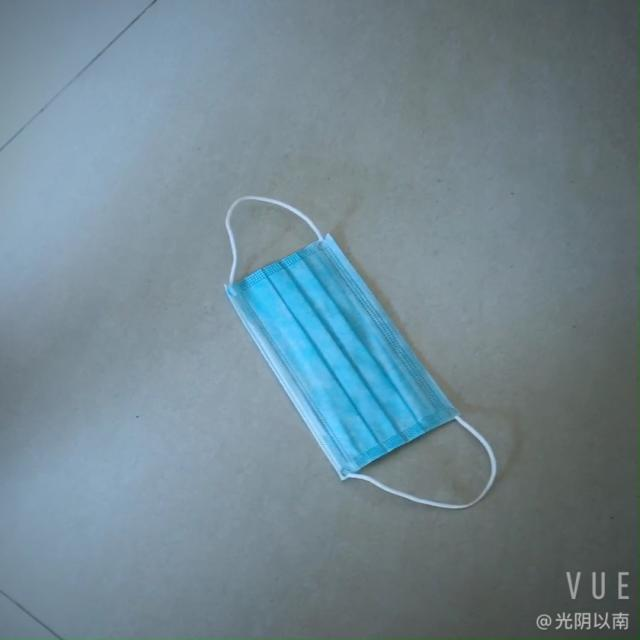non-organic waste: (220, 228, 467, 483)
